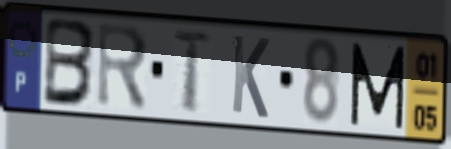8: (300, 35, 342, 130)
B: (40, 14, 99, 110)
K: (229, 31, 272, 122)
M: (348, 40, 408, 132)
R: (95, 19, 152, 115)
T: (170, 27, 216, 117)
